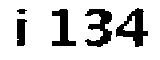1: (49, 7, 76, 51)
3: (83, 7, 113, 49)
4: (115, 8, 150, 50)
i: (13, 5, 31, 53)
